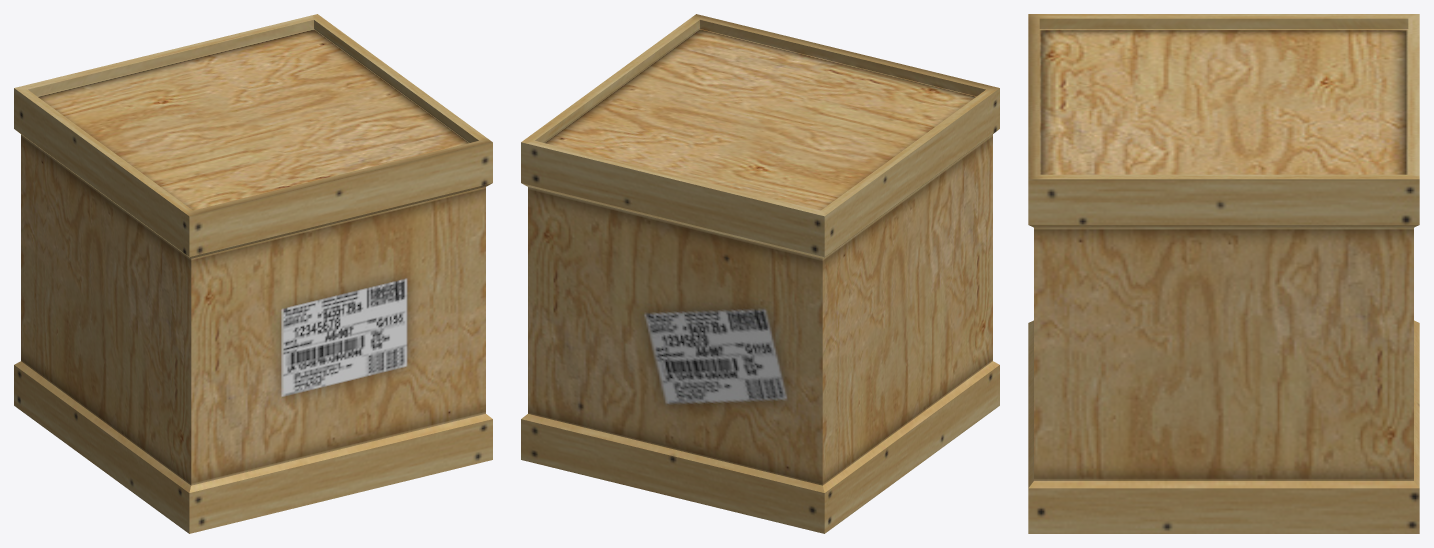
The model's file is altCrate.dae.
3 renders of one model, left to right at view 1: azimuth 30°, elevation 25°; view 2: azimuth 150°, elevation 25°; view 3: azimuth 270°, elevation 25°, orthographic. The views are drawn at different scales.
Parts seen in each view (by area): view 1: SquareBox01; view 2: SquareBox01; view 3: SquareBox01.
Part boxes in pixels (<box>): SquareBox01: <box>14,14,492,533</box>; SquareBox01: <box>521,14,999,533</box>; SquareBox01: <box>1028,14,1419,533</box>.
Size of the model in its own units: 27.56 by 27.56 by 27.56.
Materials: 1 (1 with a texture image).
